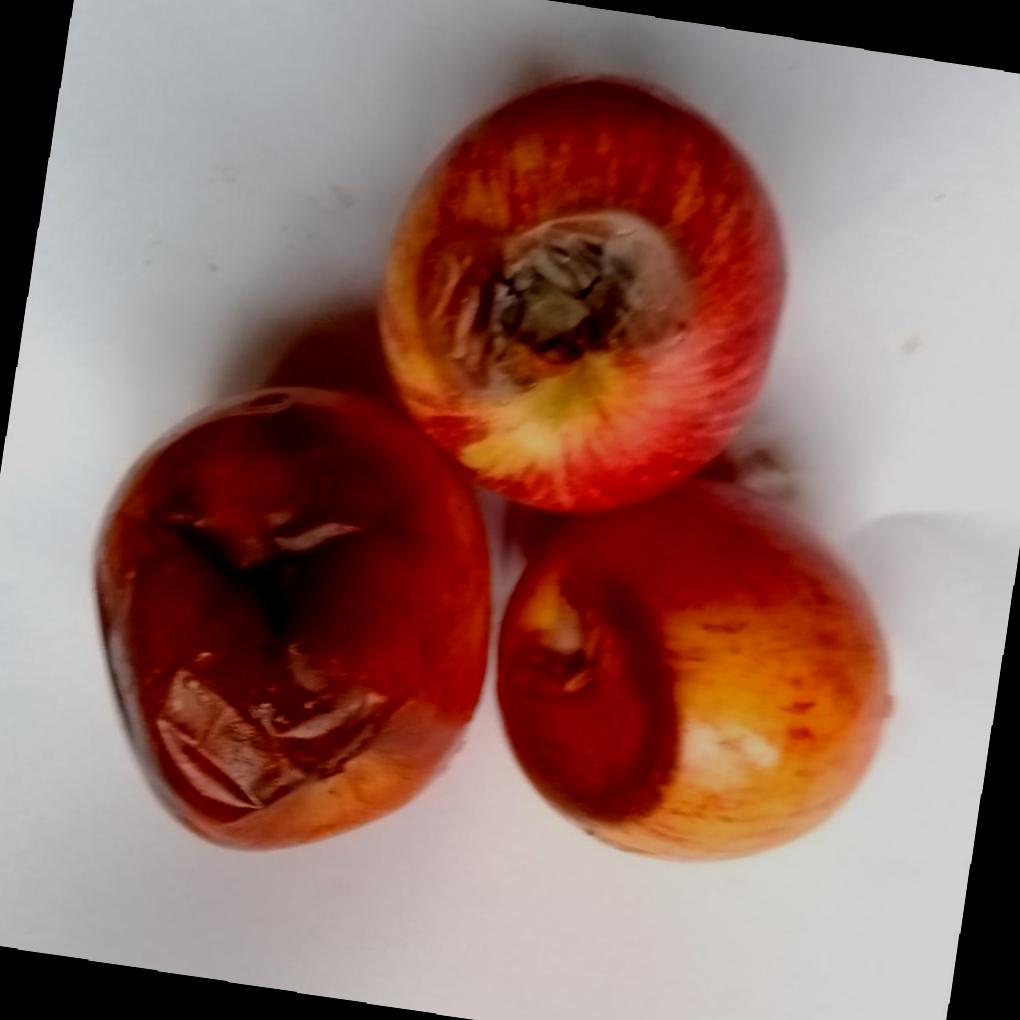FreshOrange: (90, 76, 896, 863)
